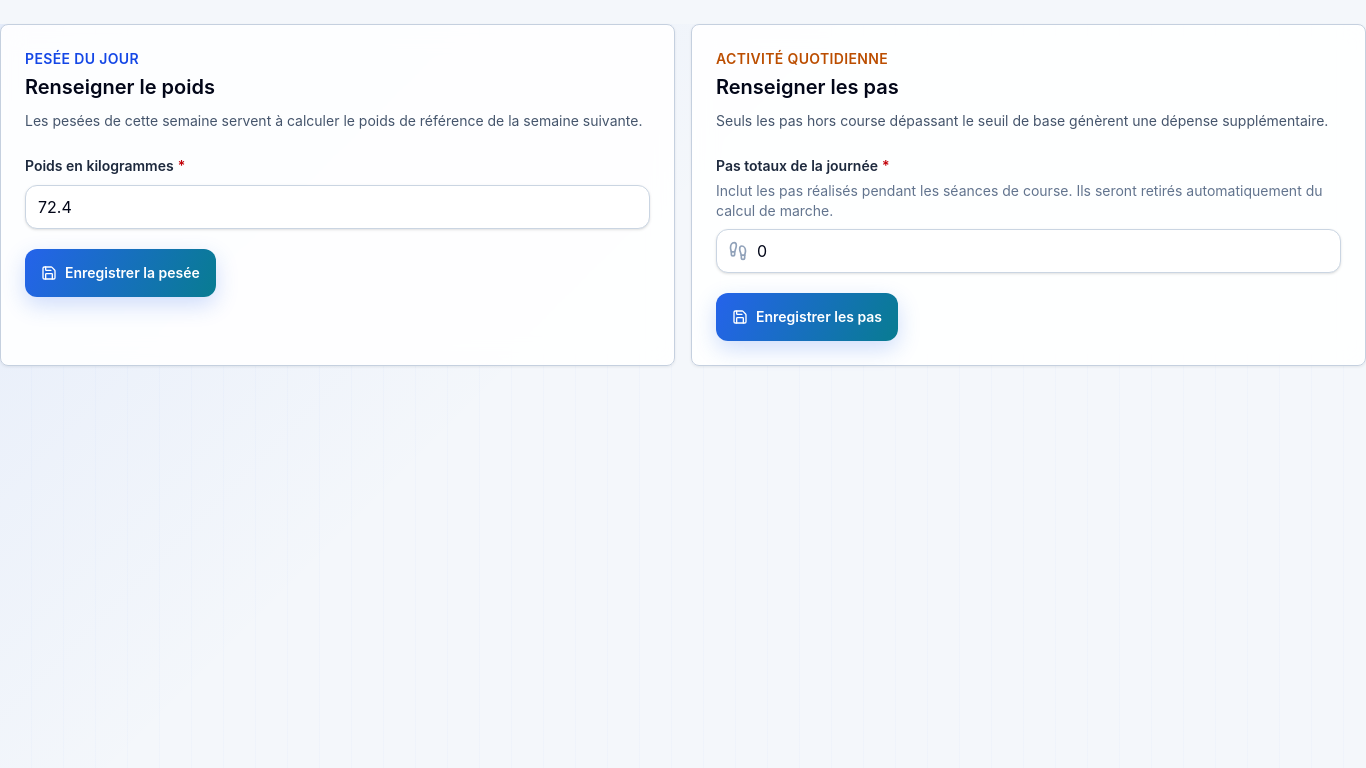
it: DailyInputsPanel › reste silencieux avant toute action puis affiche un seul succès local pour le poids
Step 1. Click the button "Enregistrer la pesée" → (120, 273), box [25, 249, 216, 297]
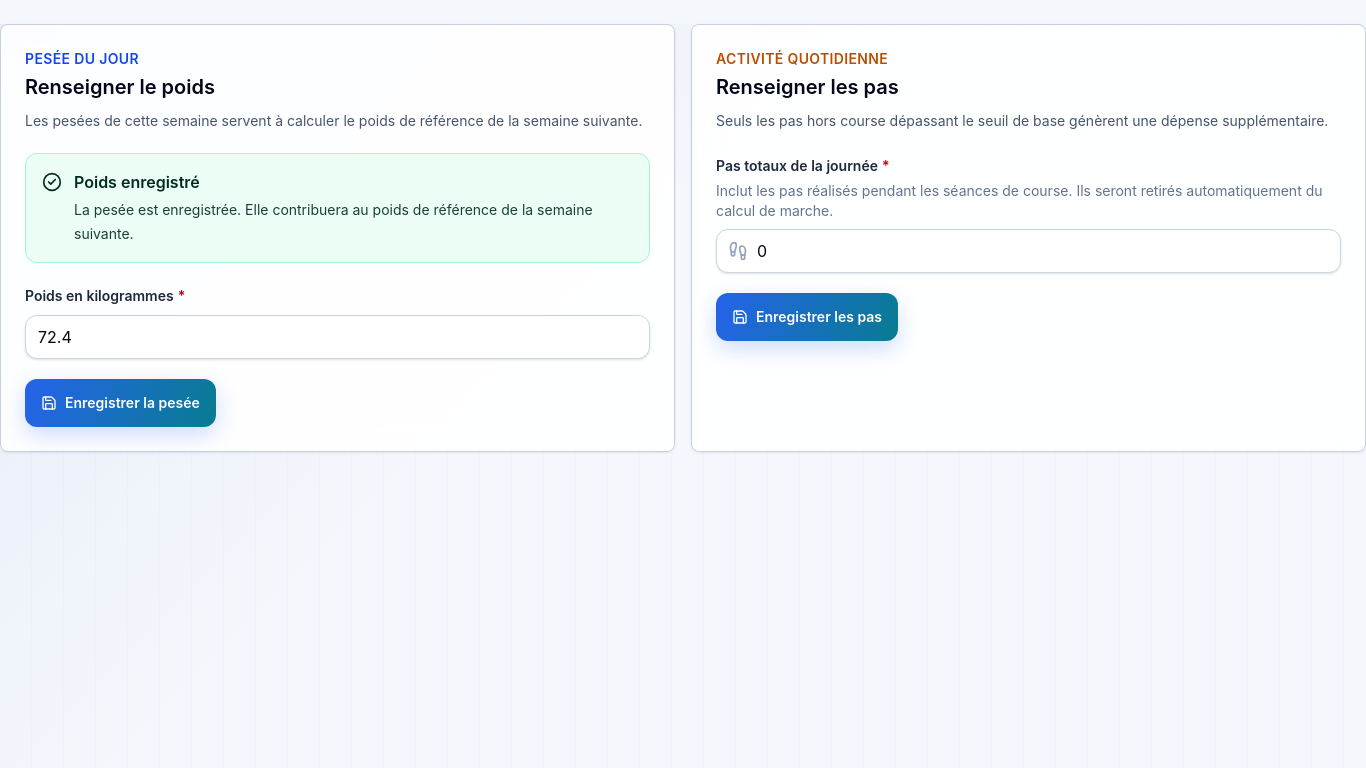
Now the number of messages is 1, box [25, 153, 650, 263]
Now the message shows "Poids enregistré", box [74, 172, 200, 192]
